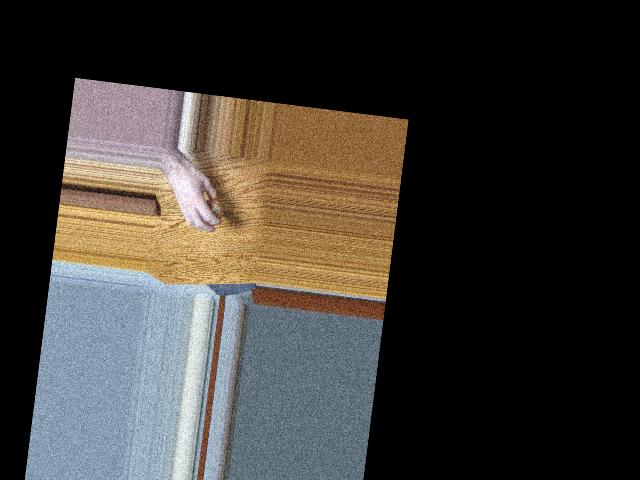onion: (199, 197, 222, 228)
